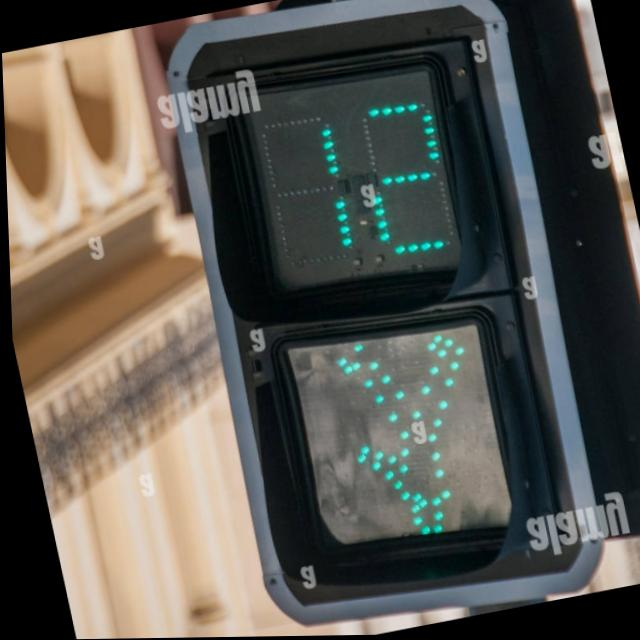green_light: (306, 324, 502, 556)
